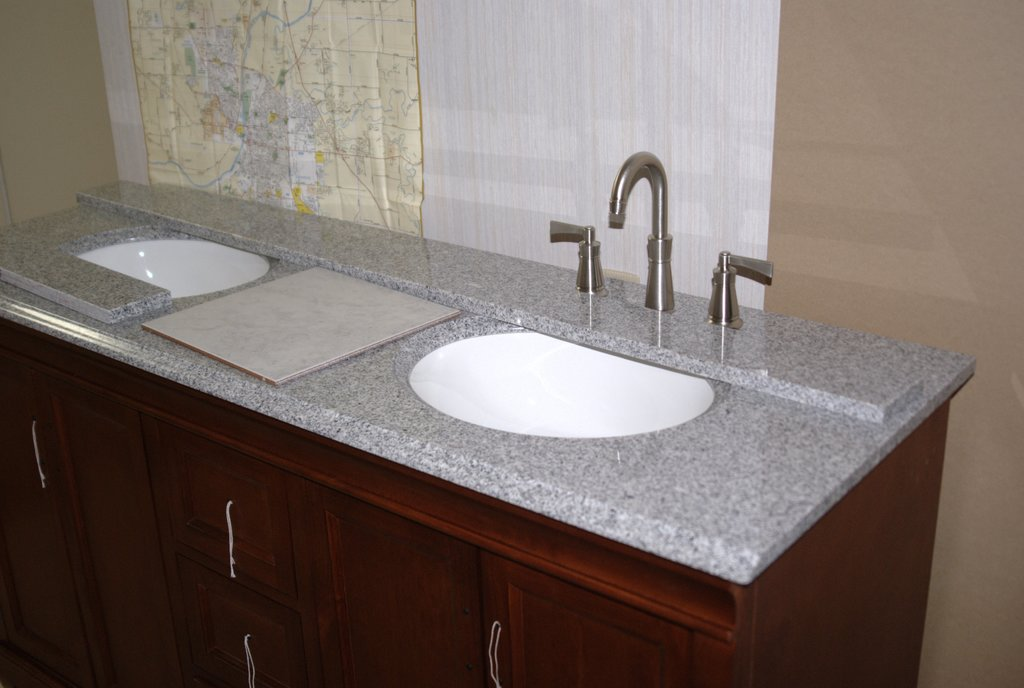tap: (524, 174, 704, 323)
